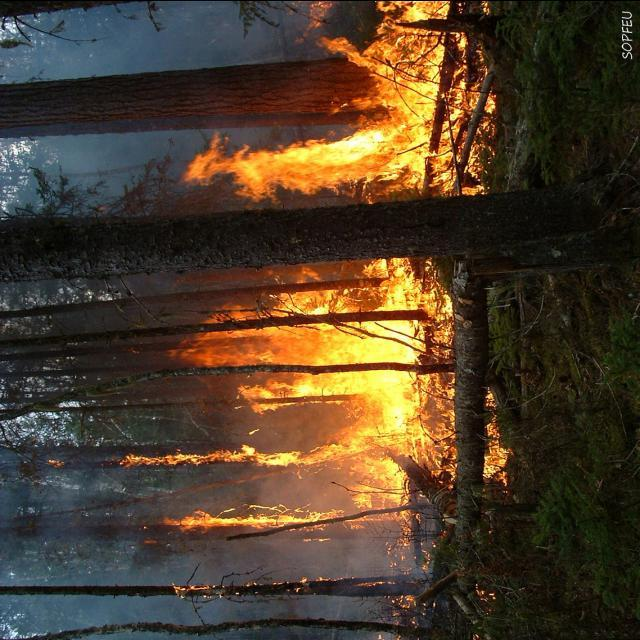Fire: (128, 260, 462, 544)
